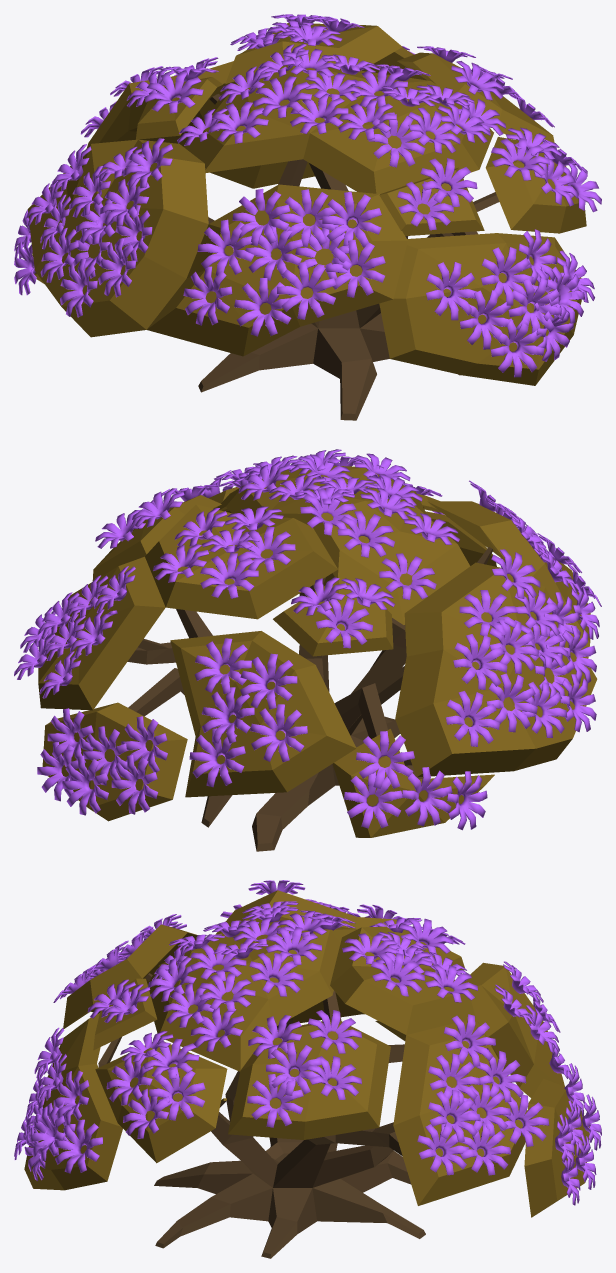
Rendered from Lantana3.fbx.
The picture shows the model from 3 angles, top to bottom: view 1: azimuth 30°, elevation 25°; view 2: azimuth 150°, elevation 25°; view 3: azimuth 270°, elevation 25°; orthographic projection. The views are drawn at different scales.
Parts seen in each view (by area): view 1: Lantana; view 2: Lantana; view 3: Lantana.
Part boxes in pixels (left/top/right/bottom): Lantana: left=14, top=14, right=601, bottom=420; Lantana: left=14, top=449, right=601, bottom=851; Lantana: left=14, top=880, right=601, bottom=1258.
Bounding box in the file's own units: 598 × 362 × 659.
